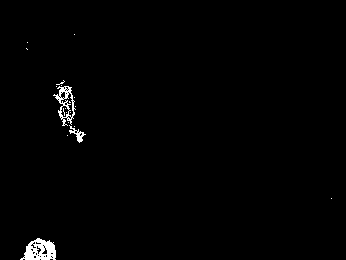person: (53, 81, 85, 145)
